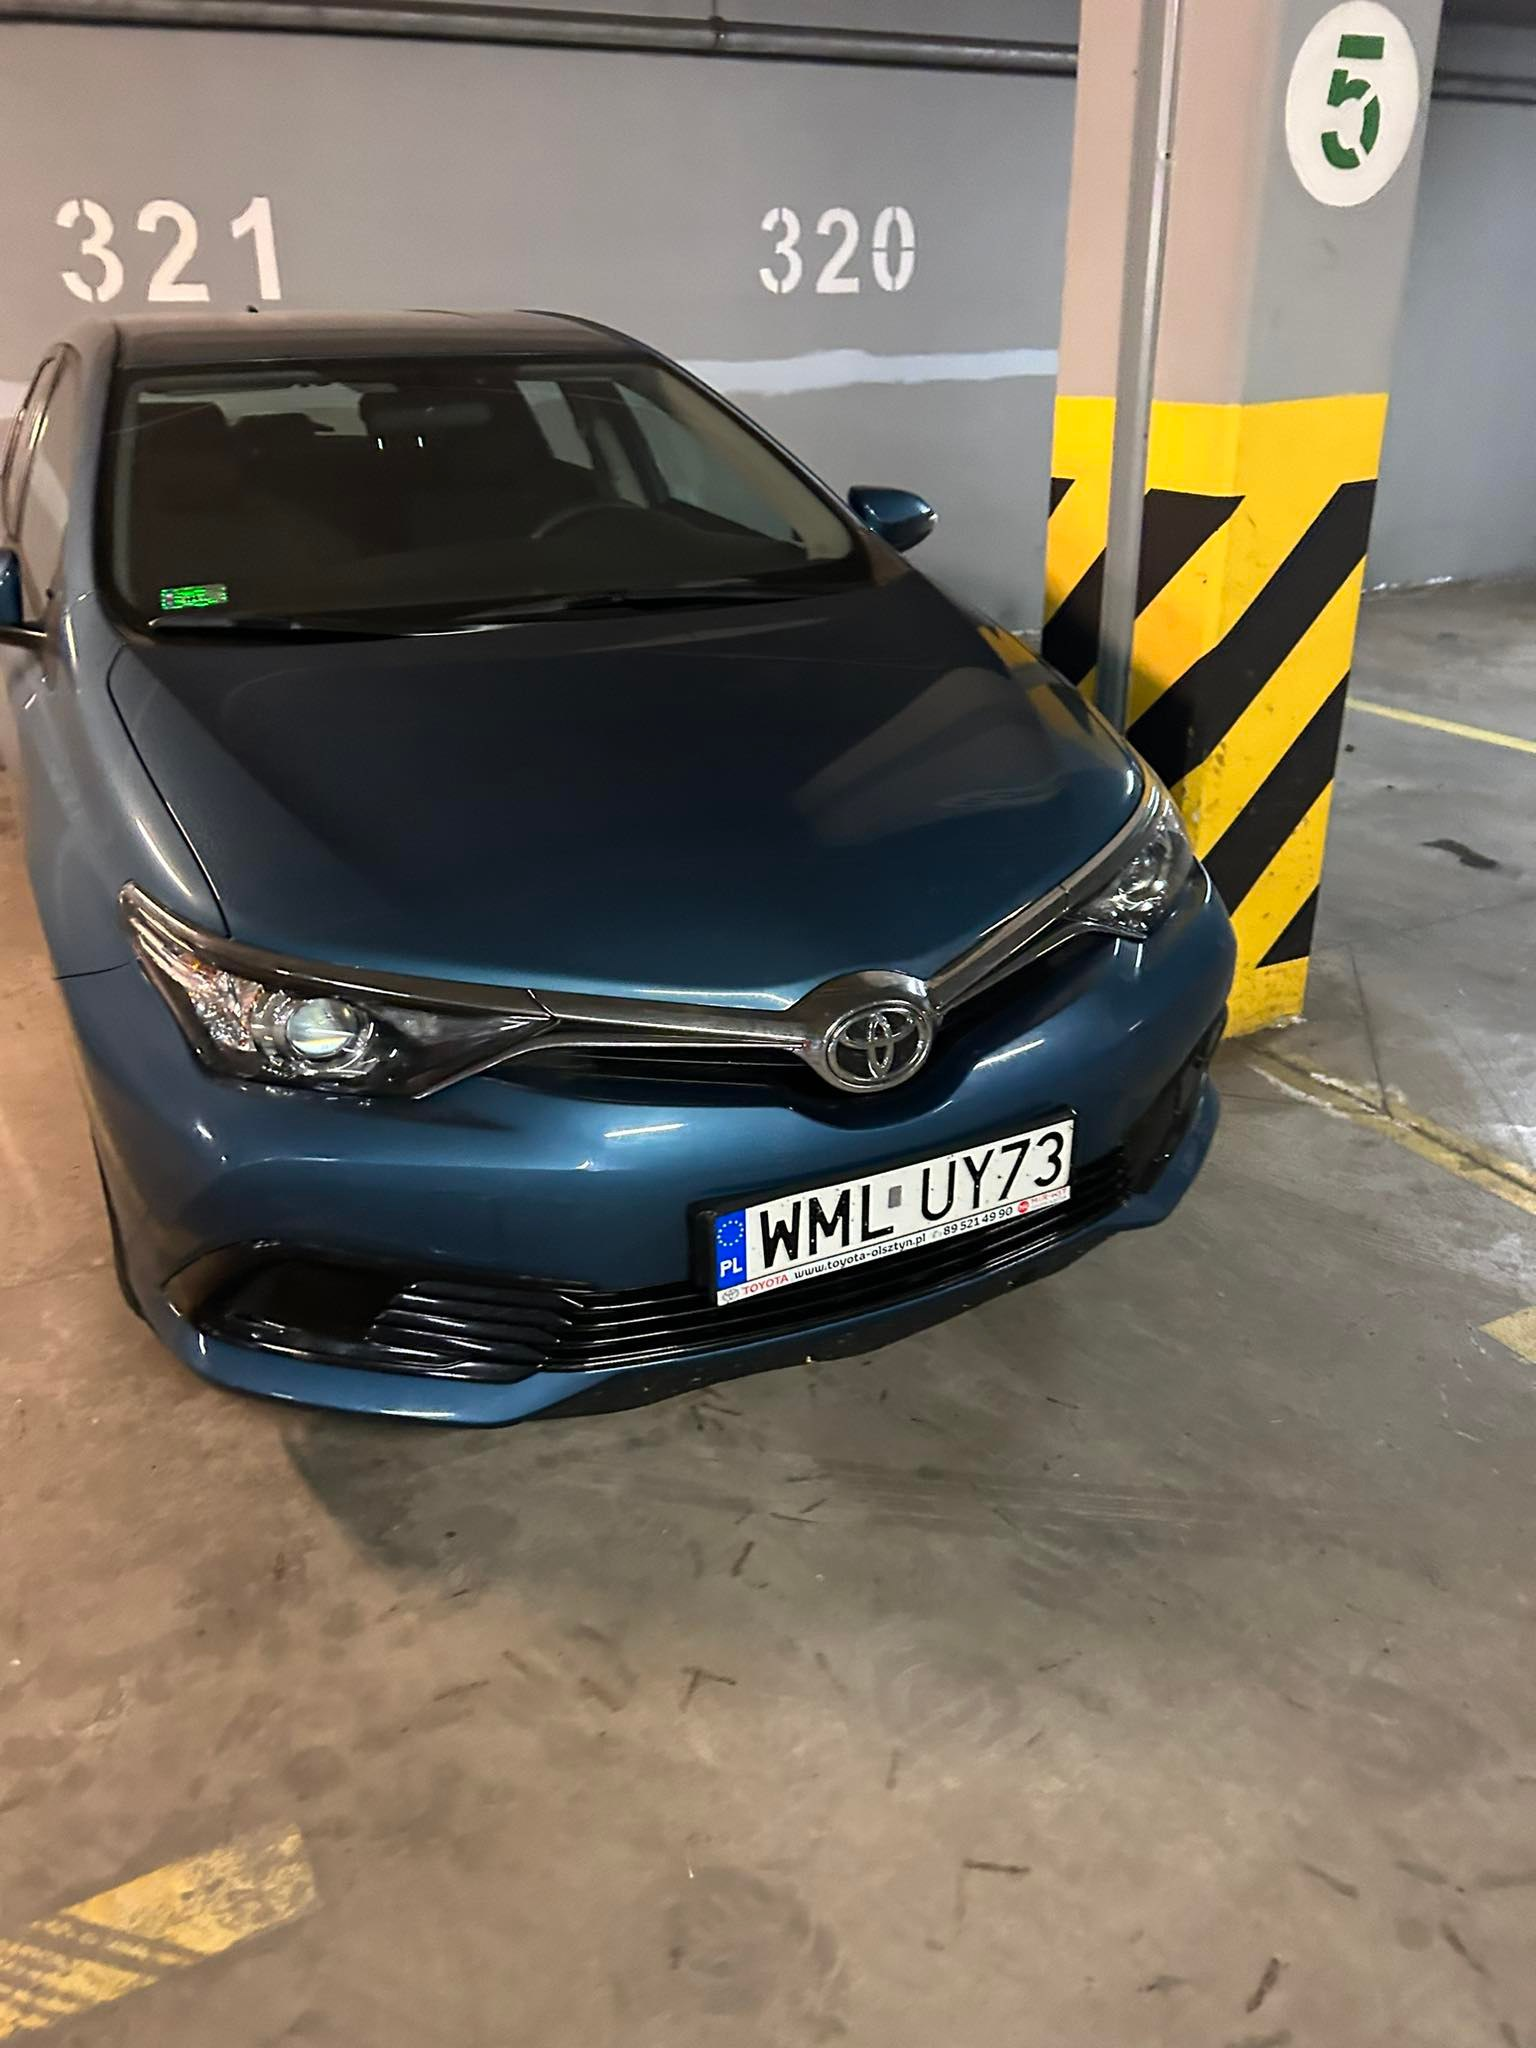number_plate: (699, 1114, 1083, 1310)
